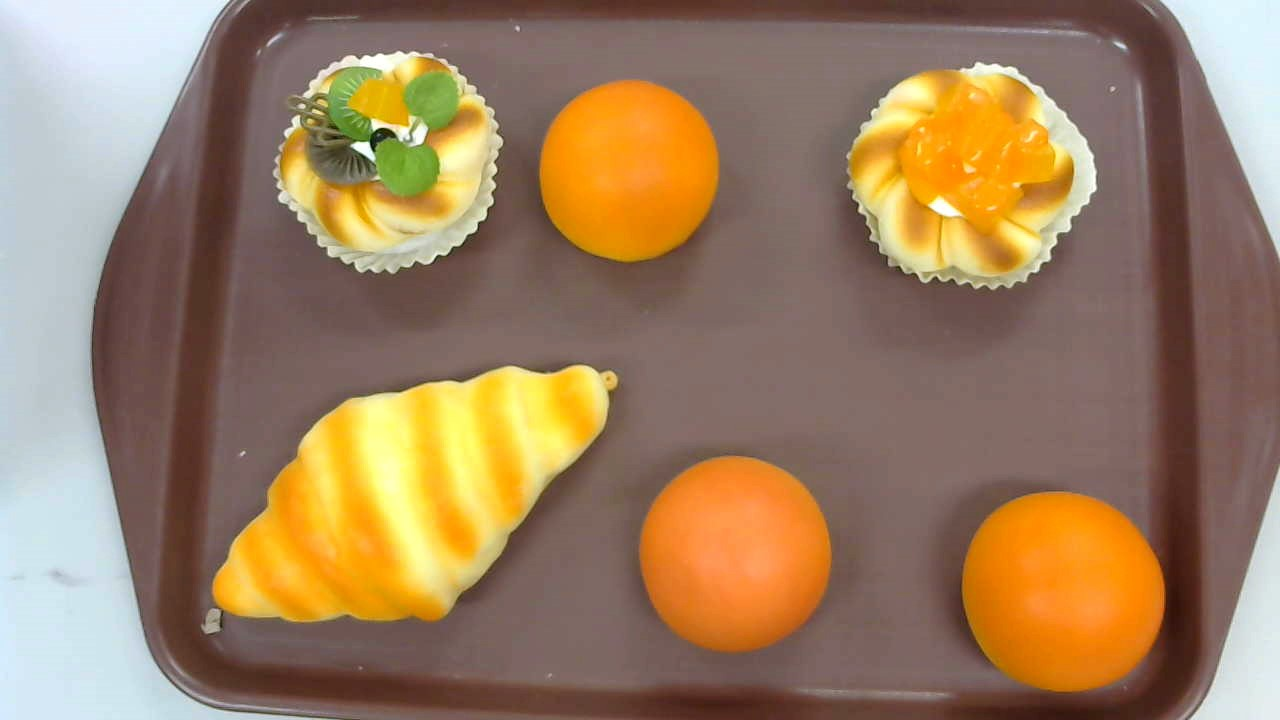bun: (959, 492, 1165, 690), (640, 454, 833, 652), (538, 78, 720, 265)
croissant: (211, 365, 617, 622)
fruit tart: (273, 49, 503, 276)
mango tart: (844, 59, 1096, 291)
